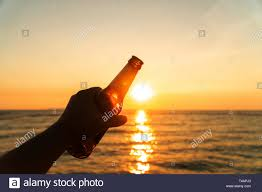beer: (64, 54, 143, 159)
